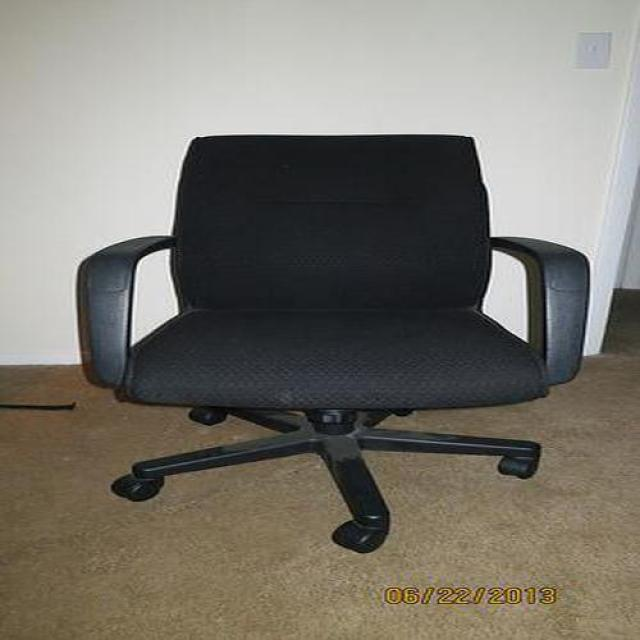swivelchair: (74, 134, 591, 557)
